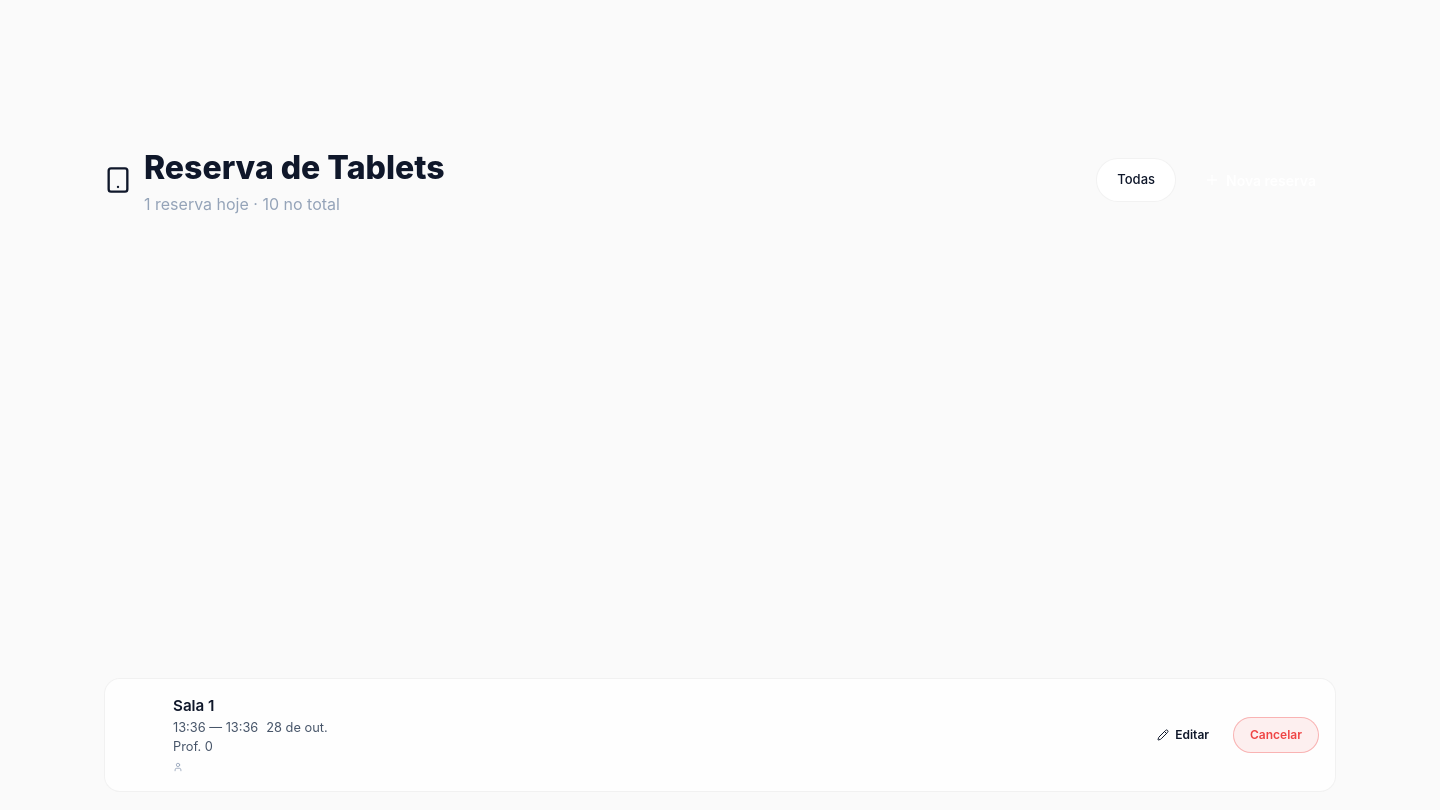
Test: TabletsView › mostra "Todas" quando há reservas fora de hoje
Click the button "Todas".
click(1136, 180)  # box [1096,158,1176,202]
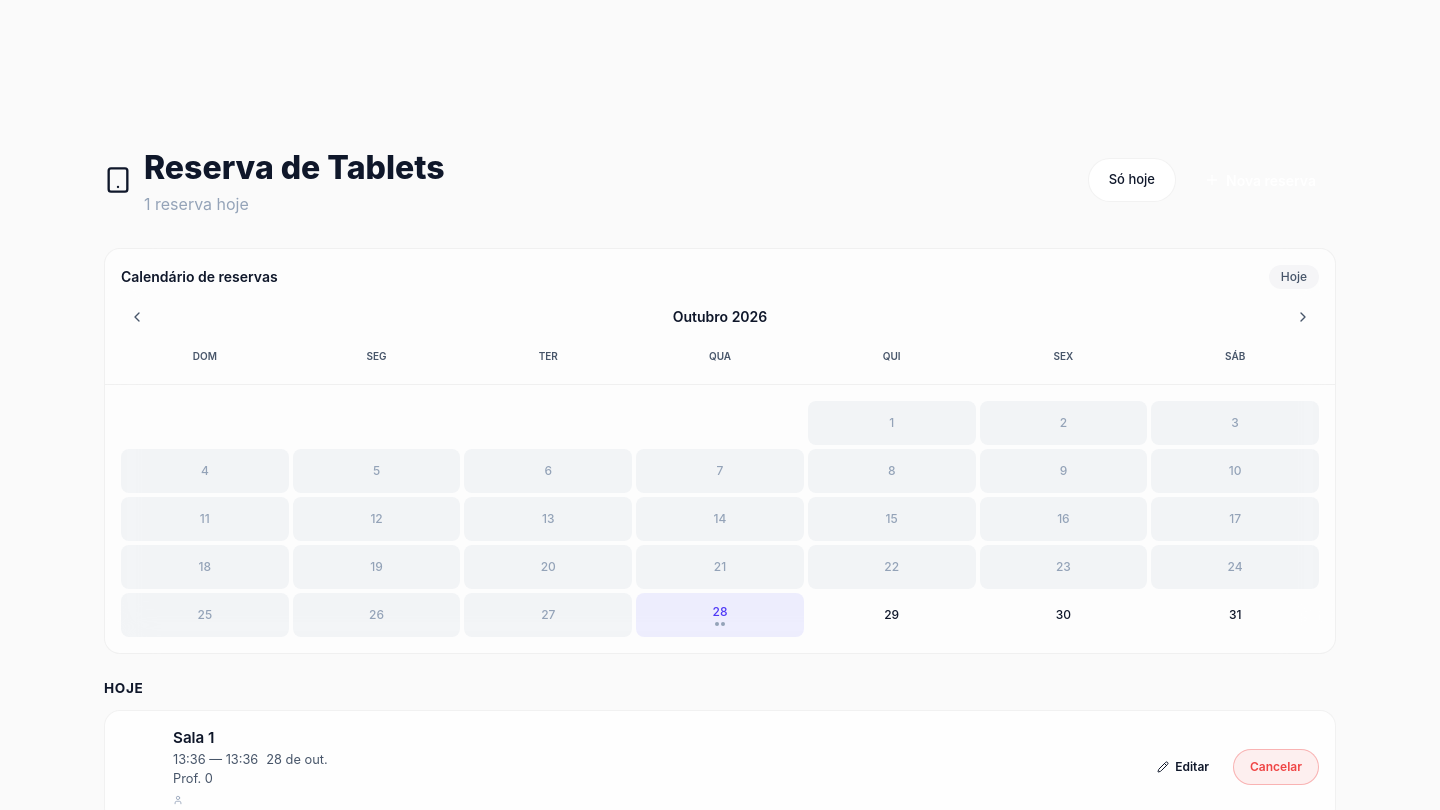
expect the button "Só hoje" is shown: met, box [1088,158,1176,202]
